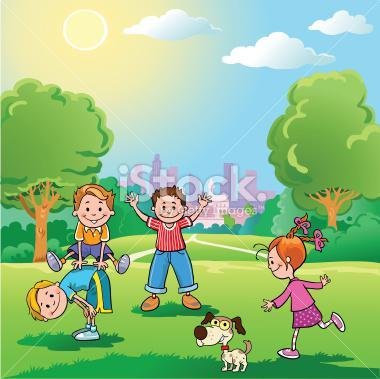dog: (191, 310, 258, 375)
person: (248, 219, 347, 364), (124, 191, 216, 312), (36, 182, 133, 274), (20, 265, 120, 347)
